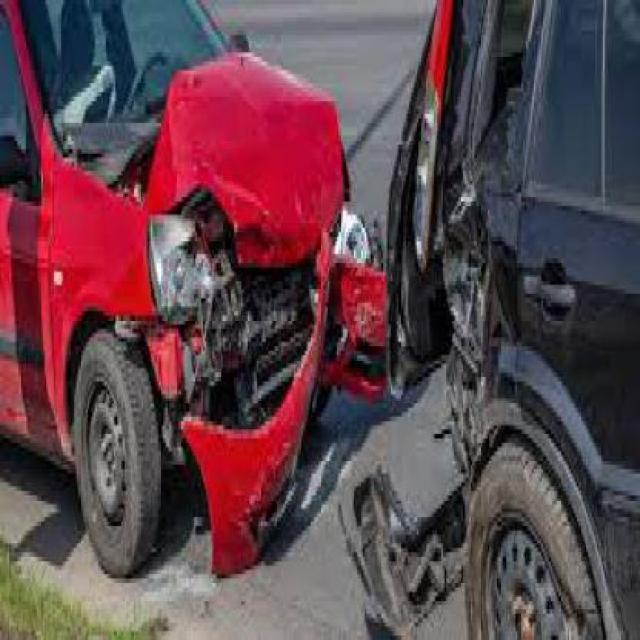damaged-front-bumper: (176, 242, 387, 567)
